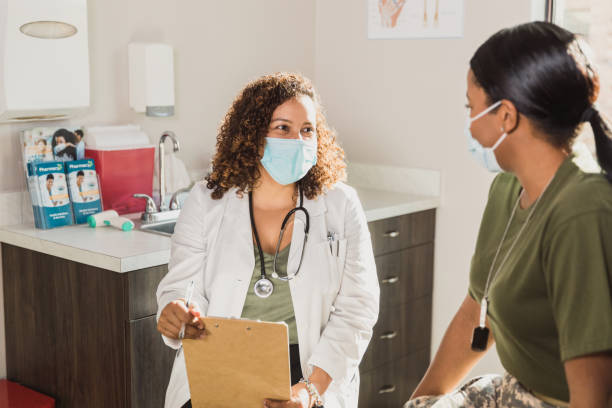with mask: (459, 19, 602, 168), (230, 77, 328, 192)
